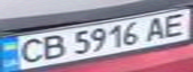1: (106, 21, 127, 50)
5: (69, 28, 93, 56)
6: (121, 19, 148, 46)
9: (87, 25, 109, 53)
A: (139, 15, 172, 43)
B: (36, 33, 69, 61)
C: (9, 35, 51, 65)
E: (157, 10, 193, 38)
